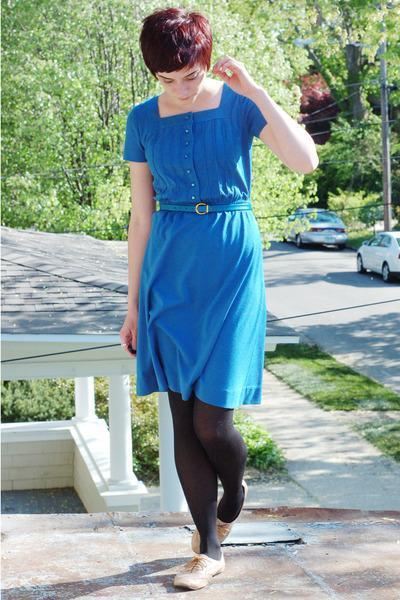dress: (123, 84, 278, 407)
pants: (167, 380, 244, 553)
shoe: (180, 540, 240, 599)
